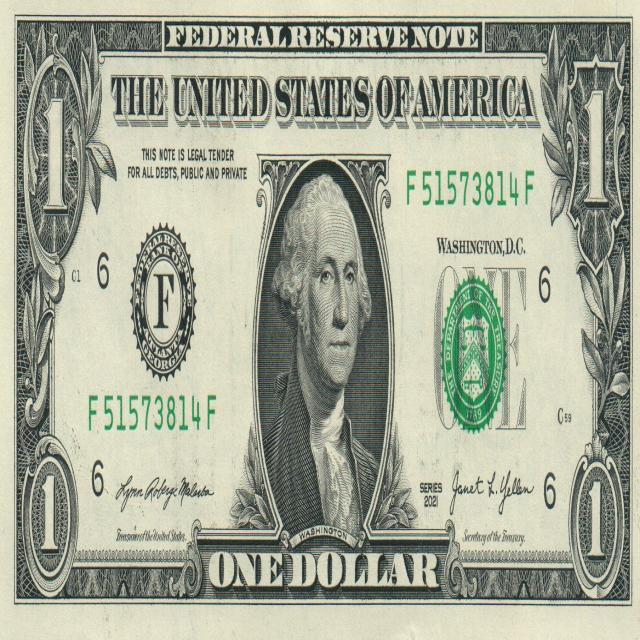SerialNumber: (89, 395, 204, 431), (422, 171, 520, 206)
